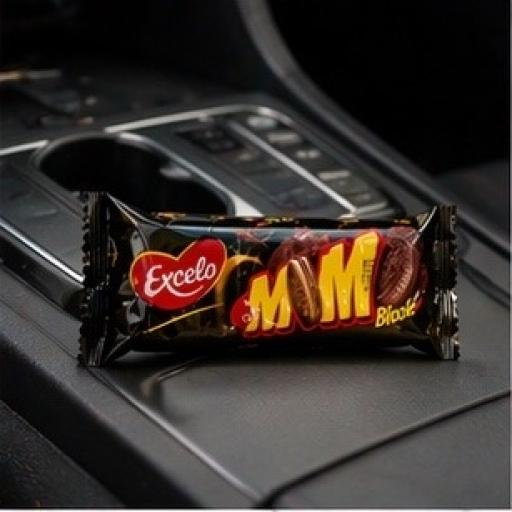MOMO: (69, 178, 469, 420)
